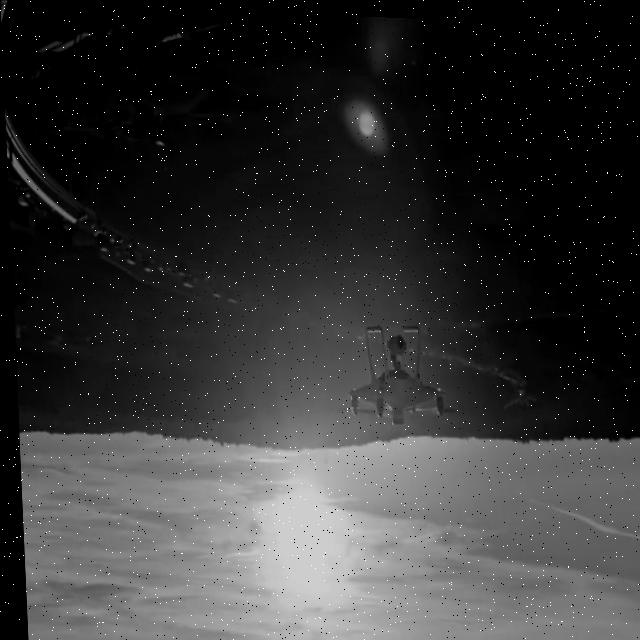drone: (326, 316, 455, 429)
